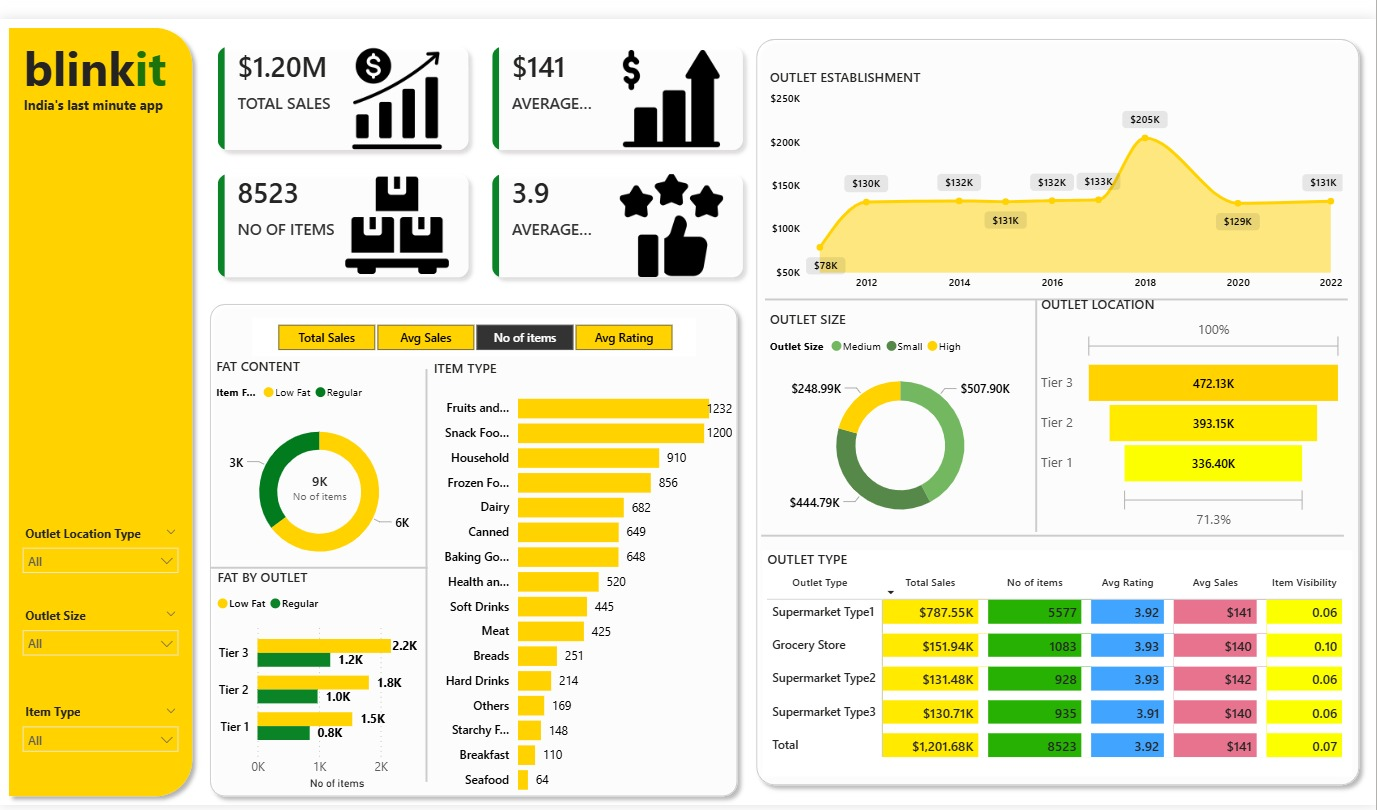

The dashboard page shown, as its layout file describes it:
{"tool":"powerbi","page":{"name":"Page 1","canvas":[1400,800],"ordinal":0},"visuals":[{"type":"shape","box":[0,0,204.8,800],"z":0},{"type":"textbox","box":[19.1,73.8,167.9,29.3],"z":1000},{"type":"textbox","box":[19.1,11.4,167.9,77.6],"z":2000},{"type":"cardVisual","fields":{"Data":["BlinkIT Grocery Data.Total Sales","BlinkIT Grocery Data.Avg Sales","BlinkIT Grocery Data.No of items","BlinkIT Grocery Data.Avg Rating"]},"box":[204.8,11.4,569.8,269.6],"z":3000},{"type":"shape","box":[204.8,281.1,554.5,518.9],"z":4000},{"type":"donutChart","title":"FAT CONTENT","fields":{"Y":["BlinkIT Grocery Data.No of items"],"Category":["BlinkIT Grocery Data.Item Fat Content"]},"box":[214.9,343.4,220,230.2],"z":5000},{"type":"slicer","fields":{"Values":["Matrix.Matrix"]},"box":[256.9,304,451.5,39.4],"z":6000},{"type":"cardVisual","fields":{"Data":["BlinkIT Grocery Data.No of items"]},"box":[268.4,445.1,114.5,62.3],"z":7000},{"type":"clusteredBarChart","title":"FAT BY OUTLET","fields":{"Y":["BlinkIT Grocery Data.No of items"],"Category":["BlinkIT Grocery Data.Outlet Location Type"],"Series":["BlinkIT Grocery Data.Item Fat Content"]},"box":[216.2,558.3,220,230.2],"z":8000},{"type":"shape","box":[213.7,541.8,221.3,33.1],"z":9000},{"type":"shape","box":[411.2,356.2,46.2,420],"z":10000},{"type":"barChart","title":"ITEM TYPE","fields":{"Y":["BlinkIT Grocery Data.No of items"],"Category":["BlinkIT Grocery Data.Item Type"]},"box":[436.2,346.2,313.8,453.8],"z":11000},{"type":"shape","box":[760,11.4,631.4,777.1],"z":12000},{"type":"lineChart","title":"OUTLET ESTABLISHMENT","fields":{"Y":["BlinkIT Grocery Data.Total Sales"],"Category":["BlinkIT Grocery Data.Outlet Establishment Year"]},"box":[778.6,50,592.9,235.7],"z":13000},{"type":"shape","box":[778.6,270,592.9,31.4],"z":14000},{"type":"donutChart","title":"OUTLET SIZE","fields":{"Y":["BlinkIT Grocery Data.Total Sales"],"Category":["BlinkIT Grocery Data.Outlet Size"]},"box":[778.6,295.7,275.7,230],"z":15000},{"type":"shape","box":[1031.4,285.7,45.7,235.7],"z":16000},{"type":"shape","box":[774.3,510,592.9,31.4],"z":17000},{"type":"funnel","title":"OUTLET LOCATION","fields":{"Category":["BlinkIT Grocery Data.Outlet Location Type"],"Y":["Sum(BlinkIT Grocery Data.Sales)"]},"box":[1054.3,281.4,317.1,242.9],"z":18000},{"type":"pivotTable","title":"OUTLET TYPE","fields":{"Rows":["BlinkIT Grocery Data.Outlet Type"],"Values":["BlinkIT Grocery Data.Total Sales","BlinkIT Grocery Data.No of items","BlinkIT Grocery Data.Avg Rating","BlinkIT Grocery Data.Avg Sales","Avg(BlinkIT Grocery Data.Item Visibility)"]},"box":[775.7,540,600,230],"z":19000},{"type":"slicer","fields":{"Values":["BlinkIT Grocery Data.Outlet Location Type"]},"box":[12.9,510,178.6,78.6],"z":20000},{"type":"slicer","fields":{"Values":["BlinkIT Grocery Data.Outlet Size"]},"box":[12.9,594.3,178.6,78.6],"z":21000},{"type":"slicer","fields":{"Values":["BlinkIT Grocery Data.Item Type"]},"box":[12.9,691.4,178.6,78.6],"z":22000}]}

Visuals, with their boxes in screenshot pixels (x1, y1, x2, y2), scaled from the page's 1400x800 canvas onto the 1383x810 screenshot:
shape: box=[0, 0, 202, 809]
textbox: box=[19, 75, 185, 104]
textbox: box=[19, 12, 185, 90]
cardVisual - BlinkIT Grocery Data.Total Sales x BlinkIT Grocery Data.Avg Sales: box=[202, 12, 765, 285]
shape: box=[202, 285, 750, 809]
"FAT CONTENT" donutChart: box=[212, 348, 430, 581]
slicer - Matrix.Matrix: box=[254, 308, 700, 348]
cardVisual - BlinkIT Grocery Data.No of items: box=[265, 451, 378, 514]
"FAT BY OUTLET" clusteredBarChart: box=[214, 565, 431, 798]
shape: box=[211, 549, 430, 582]
shape: box=[406, 361, 452, 786]
"ITEM TYPE" barChart: box=[431, 351, 741, 809]
shape: box=[751, 12, 1375, 798]
"OUTLET ESTABLISHMENT" lineChart: box=[769, 51, 1355, 289]
shape: box=[769, 273, 1355, 305]
"OUTLET SIZE" donutChart: box=[769, 299, 1041, 532]
shape: box=[1019, 289, 1064, 528]
shape: box=[765, 516, 1351, 548]
"OUTLET LOCATION" funnel: box=[1041, 285, 1355, 531]
"OUTLET TYPE" pivotTable: box=[766, 547, 1359, 780]
slicer - BlinkIT Grocery Data.Outlet Location Type: box=[13, 516, 189, 596]
slicer - BlinkIT Grocery Data.Outlet Size: box=[13, 602, 189, 681]
slicer - BlinkIT Grocery Data.Item Type: box=[13, 700, 189, 780]
